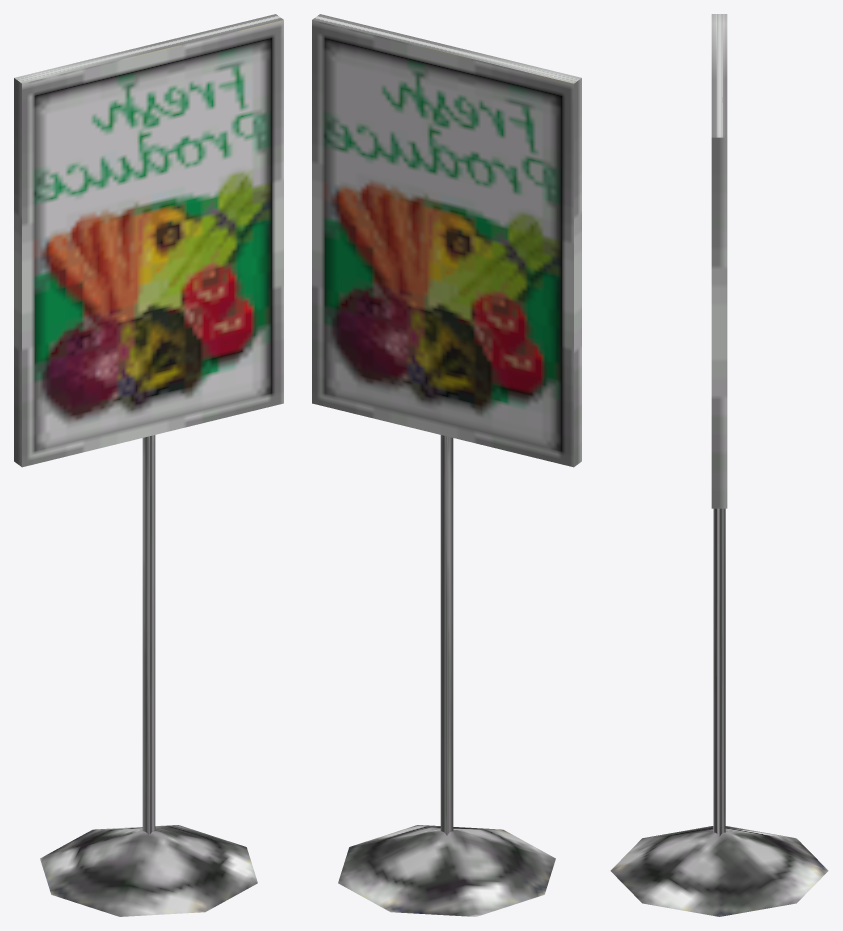
Rendered from salesign_produce.fbx.
3 renders of one model, left to right at view 1: azimuth 30°, elevation 25°; view 2: azimuth 150°, elevation 25°; view 3: azimuth 270°, elevation 25°, orthographic. The views are drawn at different scales.
Parts seen in each view (by area): view 1: mesh_0, mesh_1, mesh_2; view 2: mesh_0, mesh_1, mesh_2; view 3: mesh_1, mesh_0, mesh_2.
Part boxes in pixels (left/top/right/bottom): mesh_0: left=14, top=14, right=283, bottom=467; mesh_1: left=40, top=825, right=257, bottom=916; mesh_2: left=142, top=435, right=155, bottom=835; mesh_0: left=312, top=14, right=581, bottom=467; mesh_1: left=338, top=825, right=555, bottom=916; mesh_2: left=440, top=435, right=453, bottom=835; mesh_1: left=610, top=826, right=828, bottom=916; mesh_0: left=711, top=14, right=727, bottom=508; mesh_2: left=713, top=508, right=725, bottom=836.
Size of the model in its own units: 50 by 150 by 37.33.
Materials: 1 (1 with a texture image).
